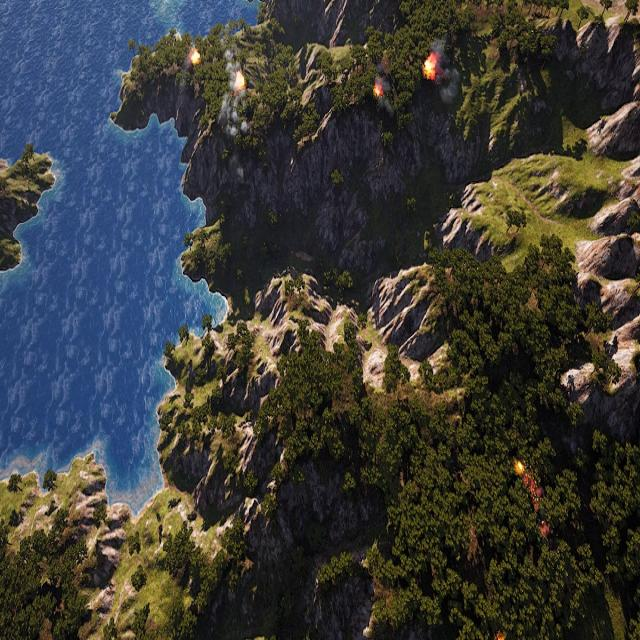fire: (517, 458, 542, 518), (423, 56, 436, 80), (374, 85, 384, 101), (189, 51, 198, 66)
smoke: (219, 47, 250, 145), (426, 38, 461, 108)
